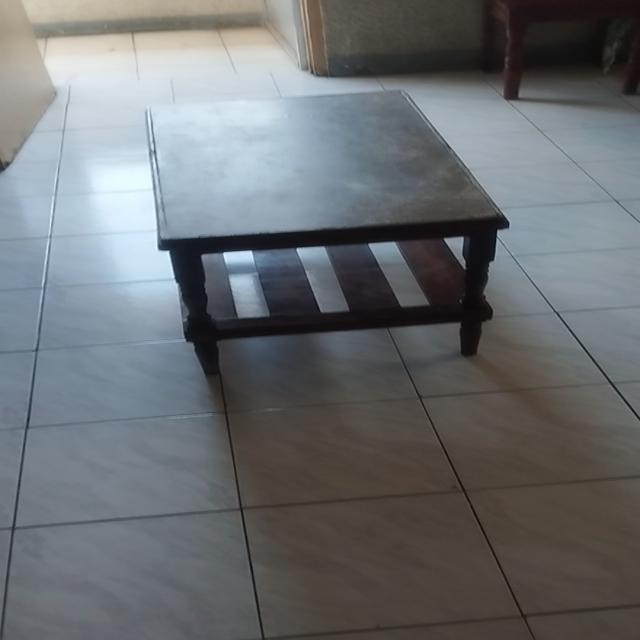table: (129, 82, 509, 382)
